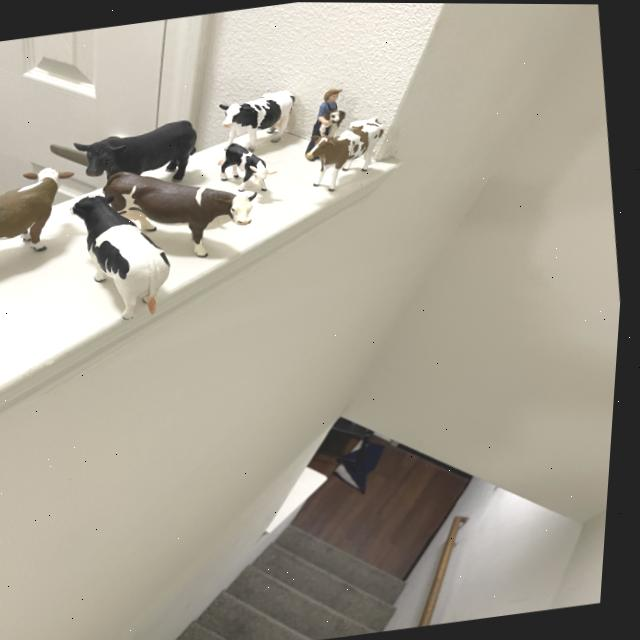cow: (58, 176, 193, 331), (98, 169, 259, 264), (75, 119, 205, 196), (298, 107, 399, 198), (218, 81, 308, 155), (0, 160, 64, 252), (214, 139, 283, 201), (319, 105, 348, 141)
person: (313, 85, 345, 139)
